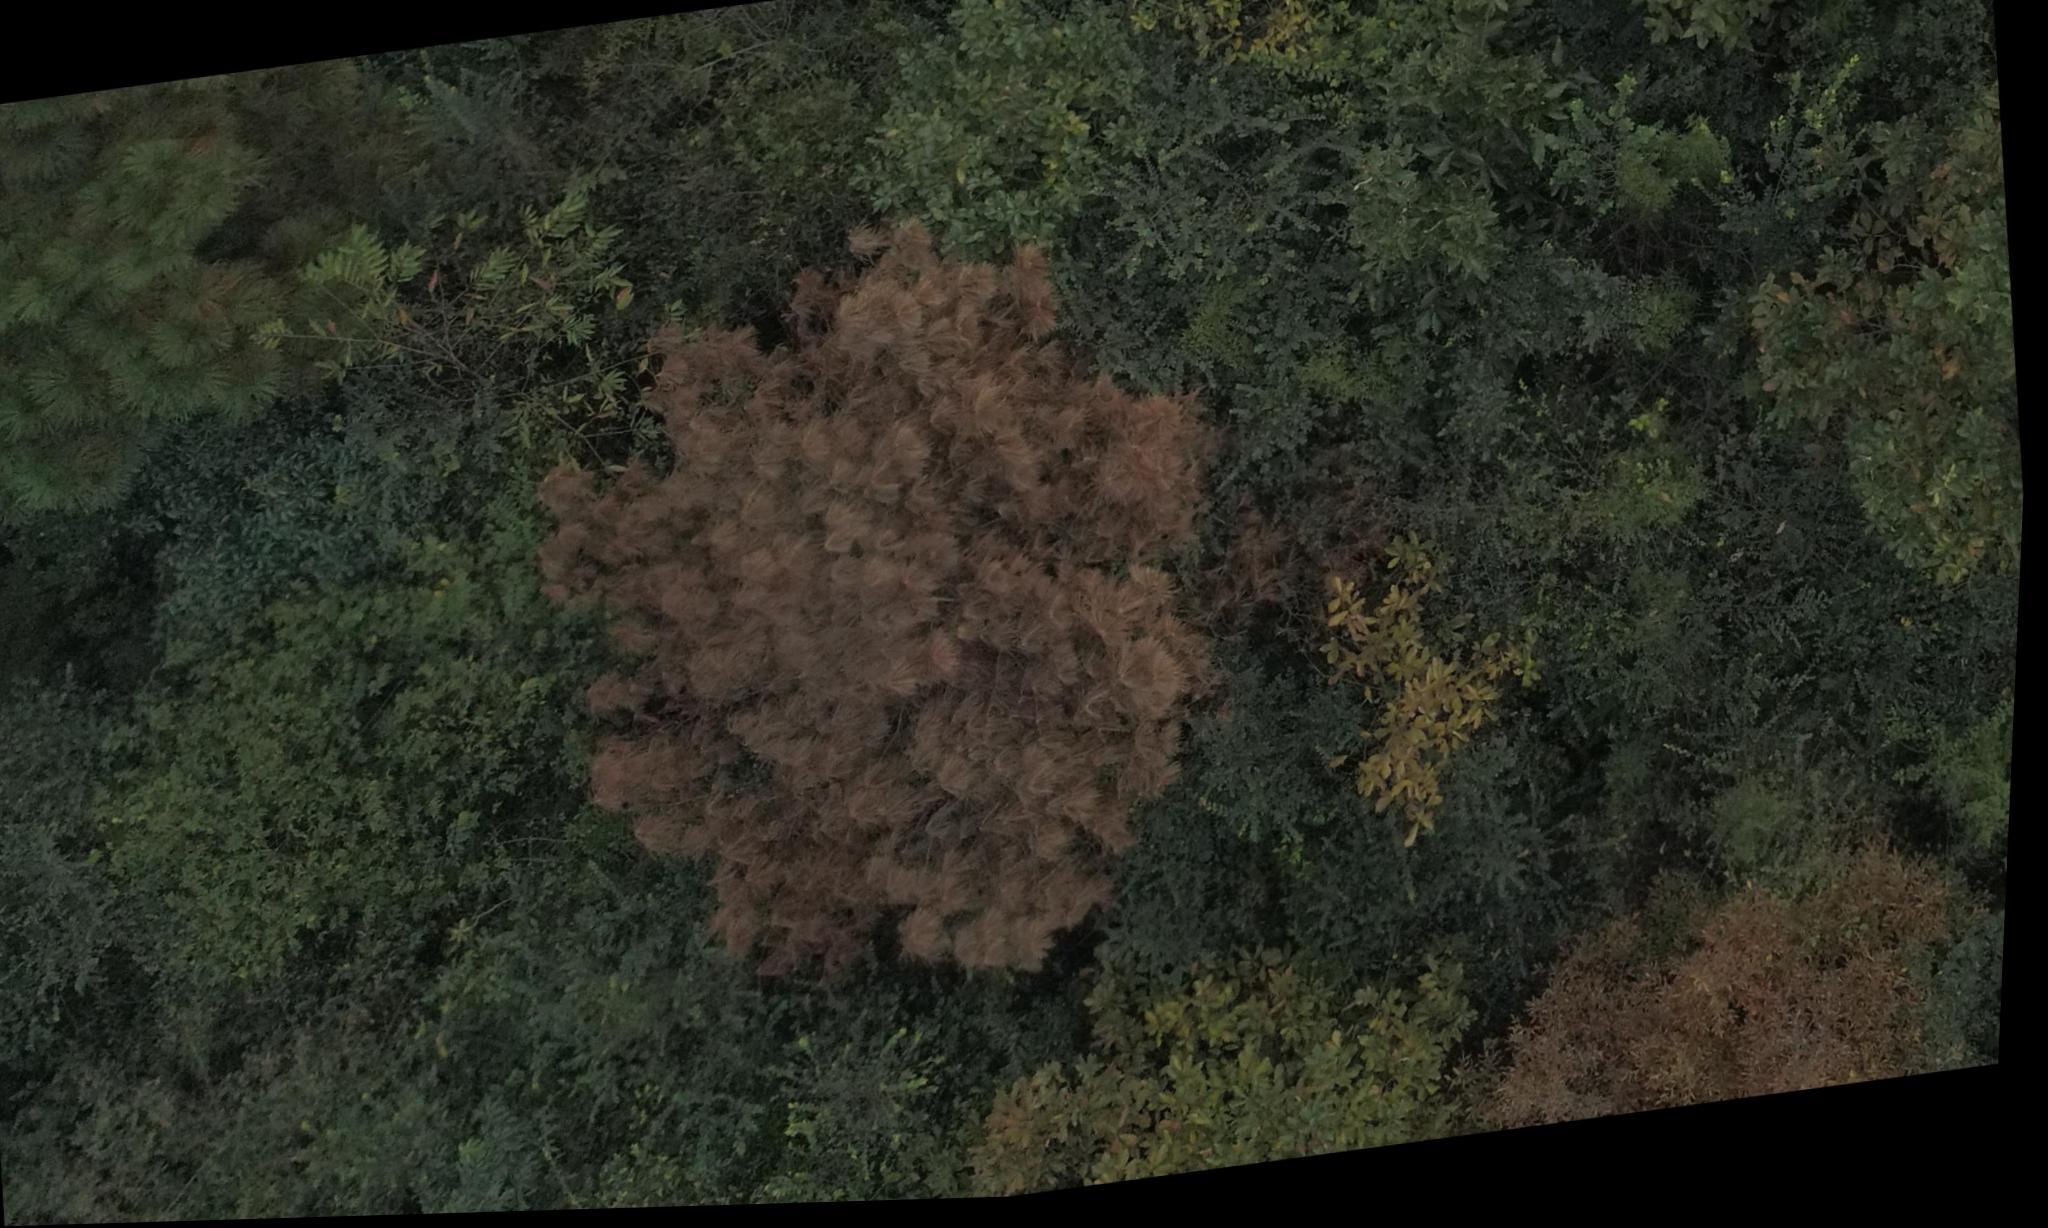heavy: (494, 200, 1289, 1042)
